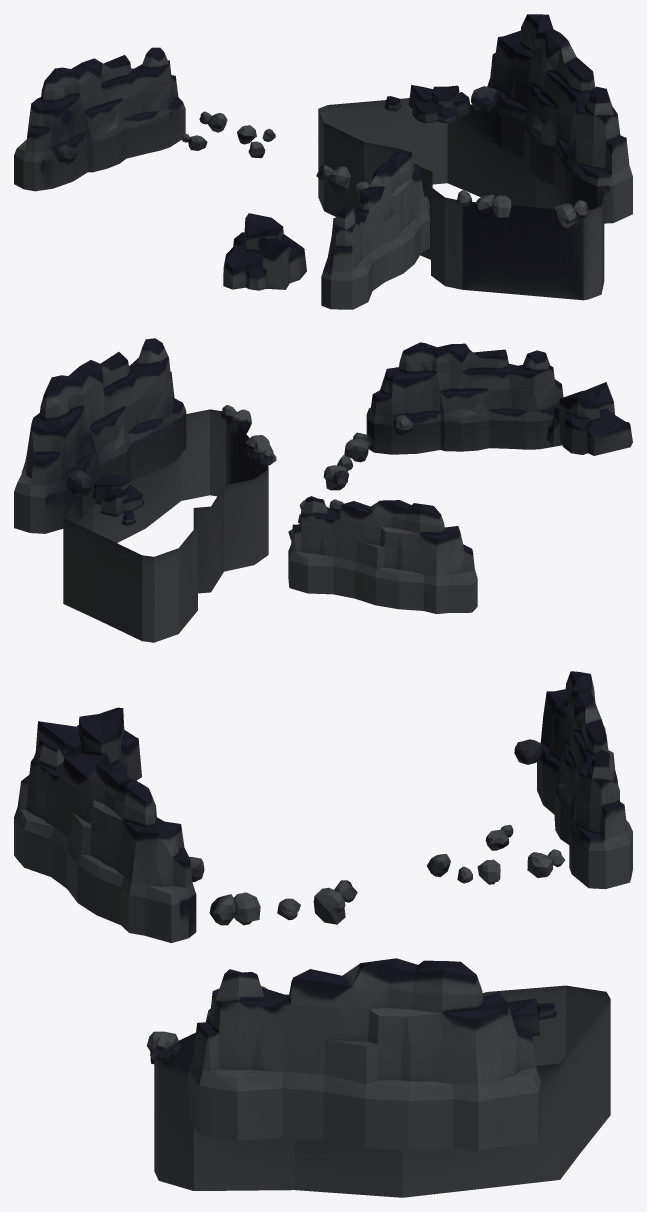
The model's file is Wall_01.FBX.
3 renders of one model, top to bottom at view 1: azimuth 30°, elevation 25°; view 2: azimuth 150°, elevation 25°; view 3: azimuth 270°, elevation 25°, orthographic. The views are drawn at different scales.
Visible parts, largest first — view 1: Wall_01; view 2: Wall_01; view 3: Wall_01.
Part boxes in pixels (x1=…): Wall_01: x1=14, y1=14, x2=632, y2=309; Wall_01: x1=14, y1=338, x2=632, y2=642; Wall_01: x1=14, y1=671, x2=632, y2=1197.
Bounding box in the file's own units: 41.96 × 16.06 × 34.11.
